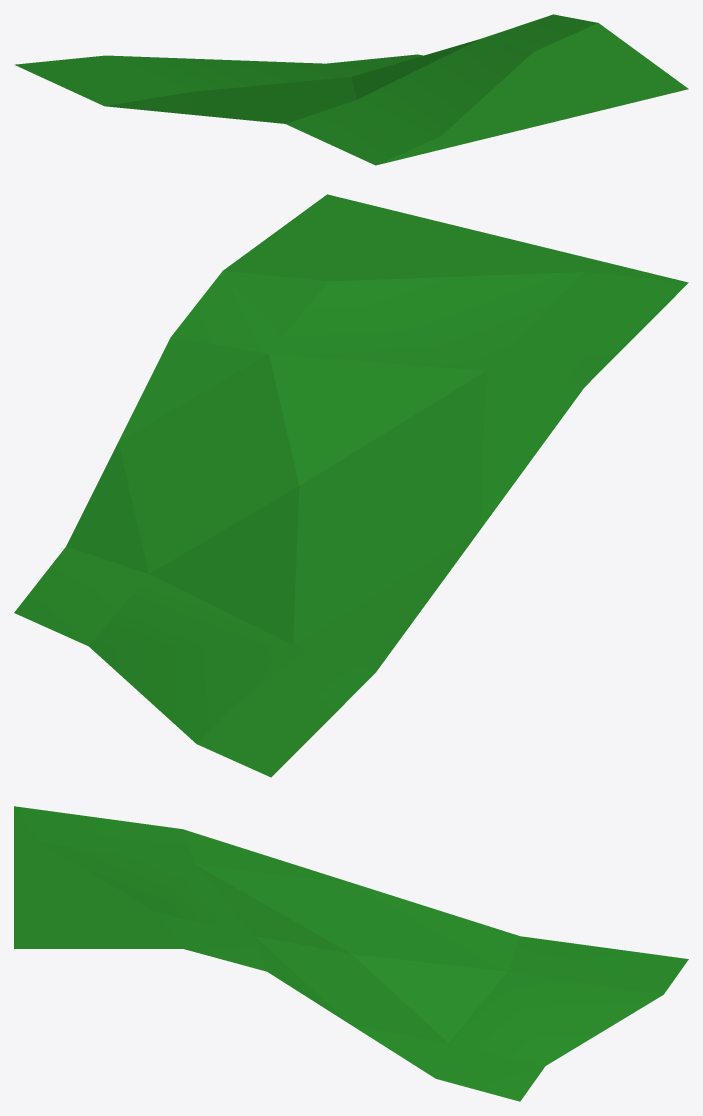
Rendered from Hilly_Terrain_Hill_Transition_Gentle_Sharp_Centered.glb.
The picture shows the model from 3 angles, top to bottom: view 1: azimuth 30°, elevation 25°; view 2: azimuth 150°, elevation 25°; view 3: azimuth 270°, elevation 25°; orthographic projection. The views are drawn at different scales.
Parts seen in each view (by area): view 1: Hilly_Terrain_Hill_Transition_Gentle_Sharp_Centered; view 2: Hilly_Terrain_Hill_Transition_Gentle_Sharp_Centered; view 3: Hilly_Terrain_Hill_Transition_Gentle_Sharp_Centered.
Boxes of the visible parts, box(x1,y1,x2,y2) form: Hilly_Terrain_Hill_Transition_Gentle_Sharp_Centered: box(14, 14, 688, 165); Hilly_Terrain_Hill_Transition_Gentle_Sharp_Centered: box(14, 194, 688, 777); Hilly_Terrain_Hill_Transition_Gentle_Sharp_Centered: box(14, 806, 688, 1101).
Bounding box in the file's own units: 2 × 1 × 4.
